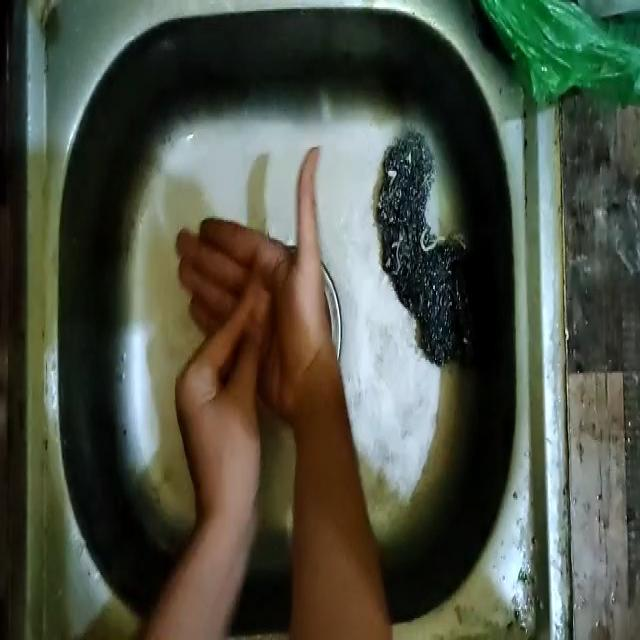step_6: (164, 130, 336, 491)
